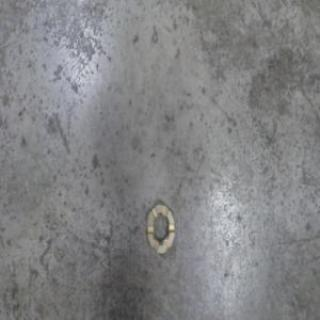Nuttrack_idkeyframe: (144, 197, 175, 255)
